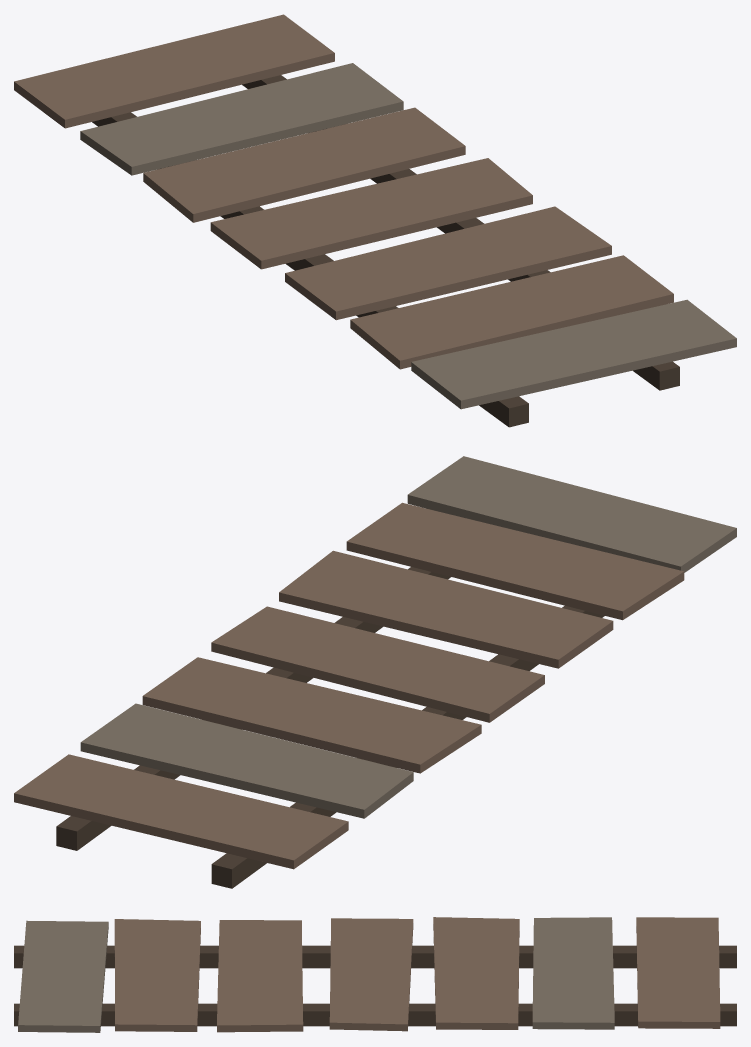
The model's file is Mines Runway 3M.glb.
3 views of the same model, one above another, from view 1: azimuth 30°, elevation 25°; view 2: azimuth 150°, elevation 25°; view 3: azimuth 270°, elevation 25° (orthographic). The views are drawn at different scales.
Parts seen in each view (by area): view 1: Mines Runway 3M; view 2: Mines Runway 3M; view 3: Mines Runway 3M.
Boxes of the visible parts, x1=… form: Mines Runway 3M: x1=14, y1=14, x2=736, y2=427; Mines Runway 3M: x1=14, y1=456, x2=736, y2=888; Mines Runway 3M: x1=14, y1=917, x2=736, y2=1032.
Size of what is drawn, in the model's own units: 1.07 by 0.1118 by 3.
1 material, 1 textured.
